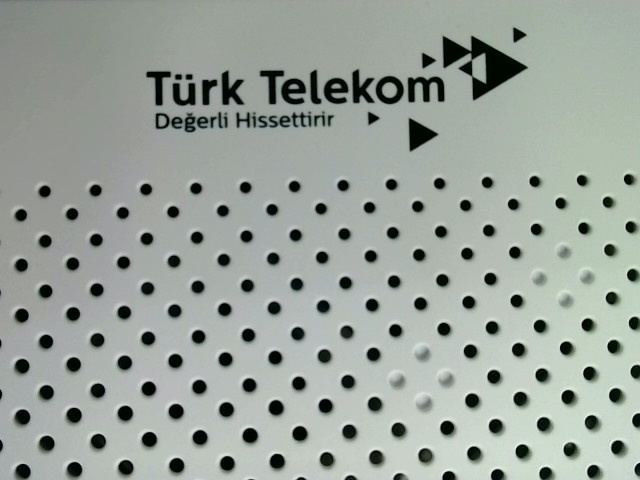AQ_TURKTelekom: (139, 20, 528, 154)
